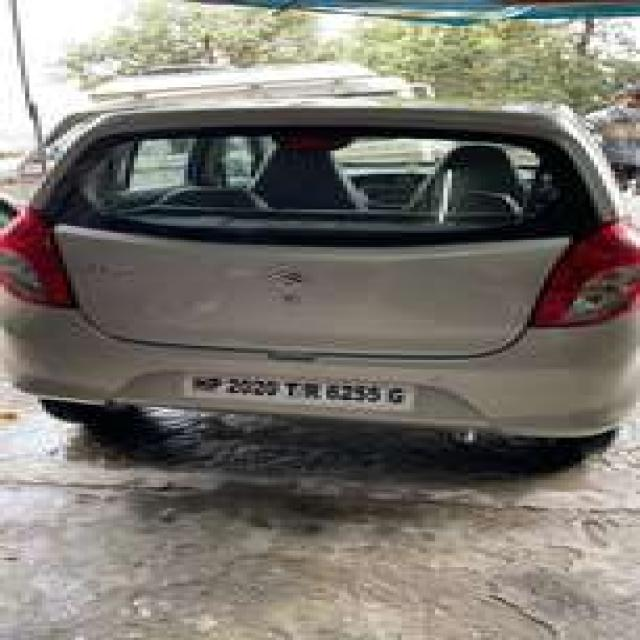licenseplate: (180, 370, 414, 410)
